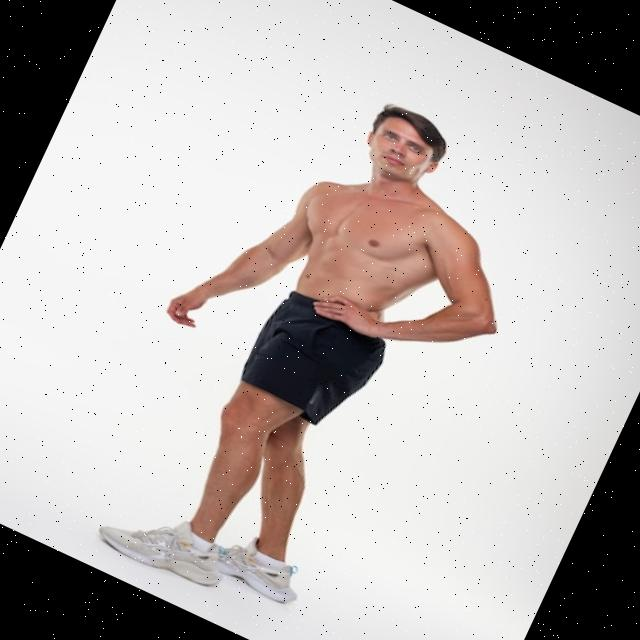Person: (66, 53, 563, 640)
